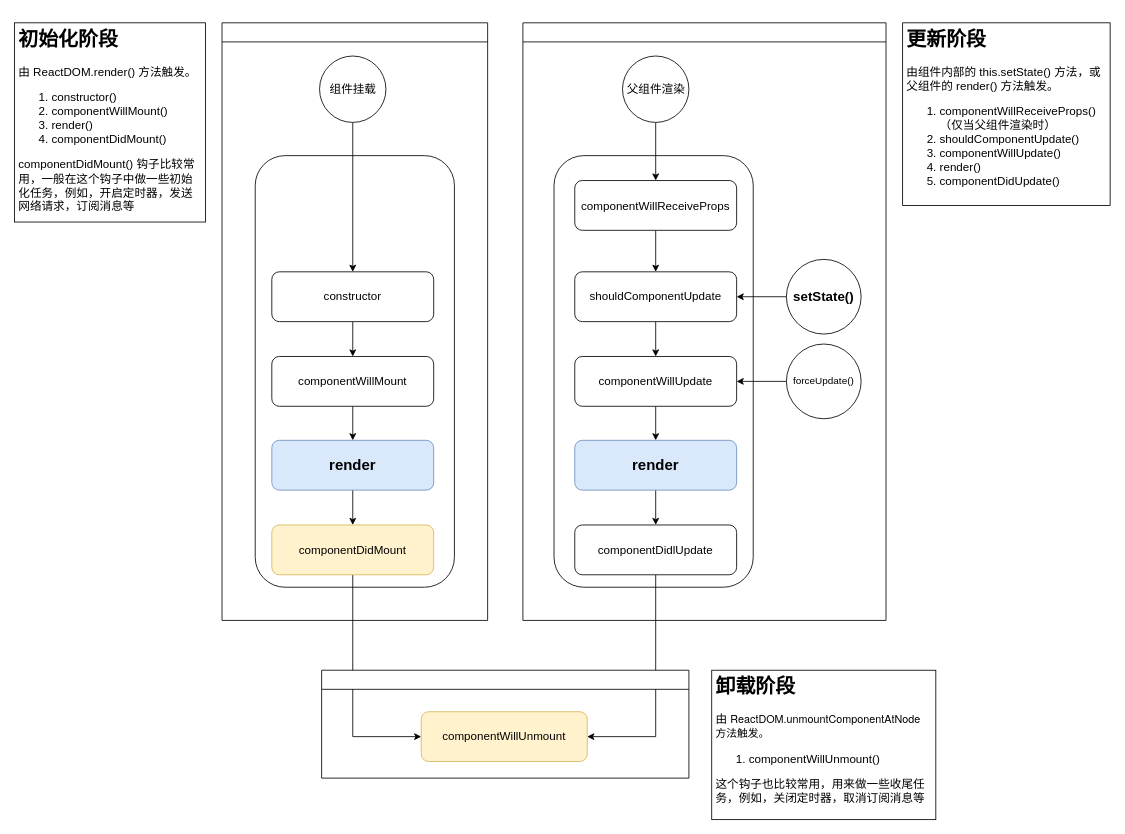
Some shapes in this 1125 by 834 pixel diagram are drawn without their labels. Each missing label, with the centre of its shape:
初始化阶段: point (354, 321)
卸载阶段: point (505, 723)
更新阶段: point (704, 321)
